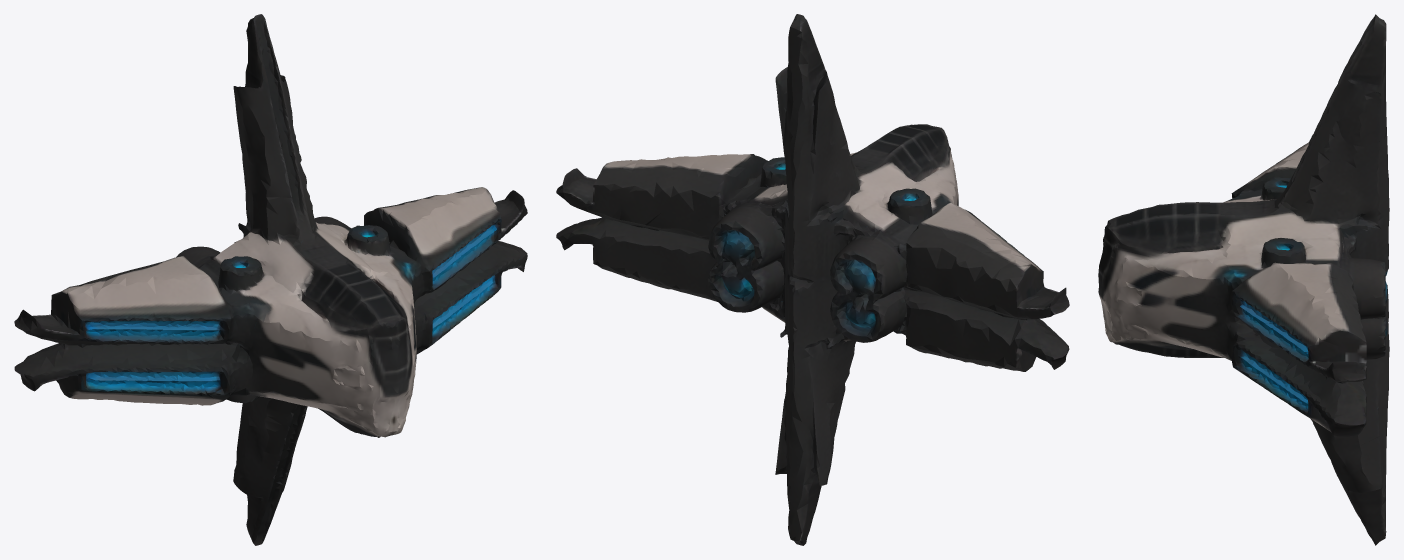
The model's file is rodin_Landing_Starwing_raw.glb.
3 renders of one model, left to right at view 1: azimuth 30°, elevation 25°; view 2: azimuth 150°, elevation 25°; view 3: azimuth 270°, elevation 25°, orthographic.
Visible parts, largest first — view 1: model; view 2: model; view 3: model.
Boxes of the visible parts, bbox=[...] form: model: bbox=[14, 14, 527, 545]; model: bbox=[556, 14, 1069, 545]; model: bbox=[1098, 14, 1389, 545].
Size of the model in its own units: 1.89 by 1.89 by 0.9449.
1 material, 1 textured.
